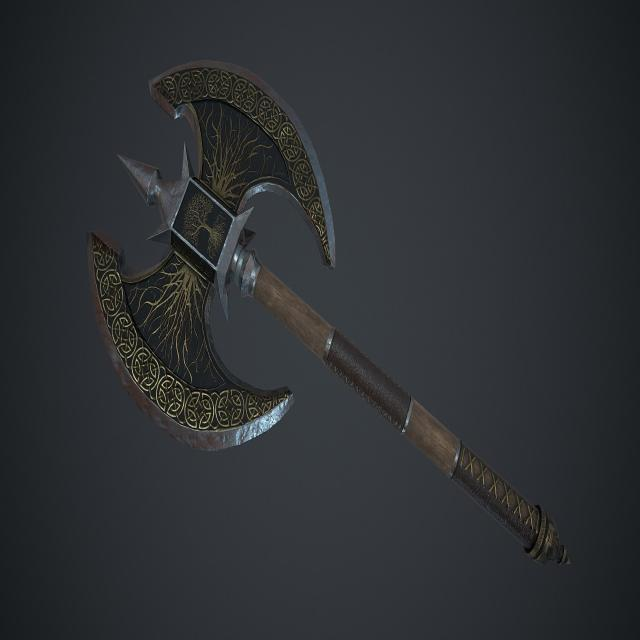axe: (83, 51, 573, 574)
